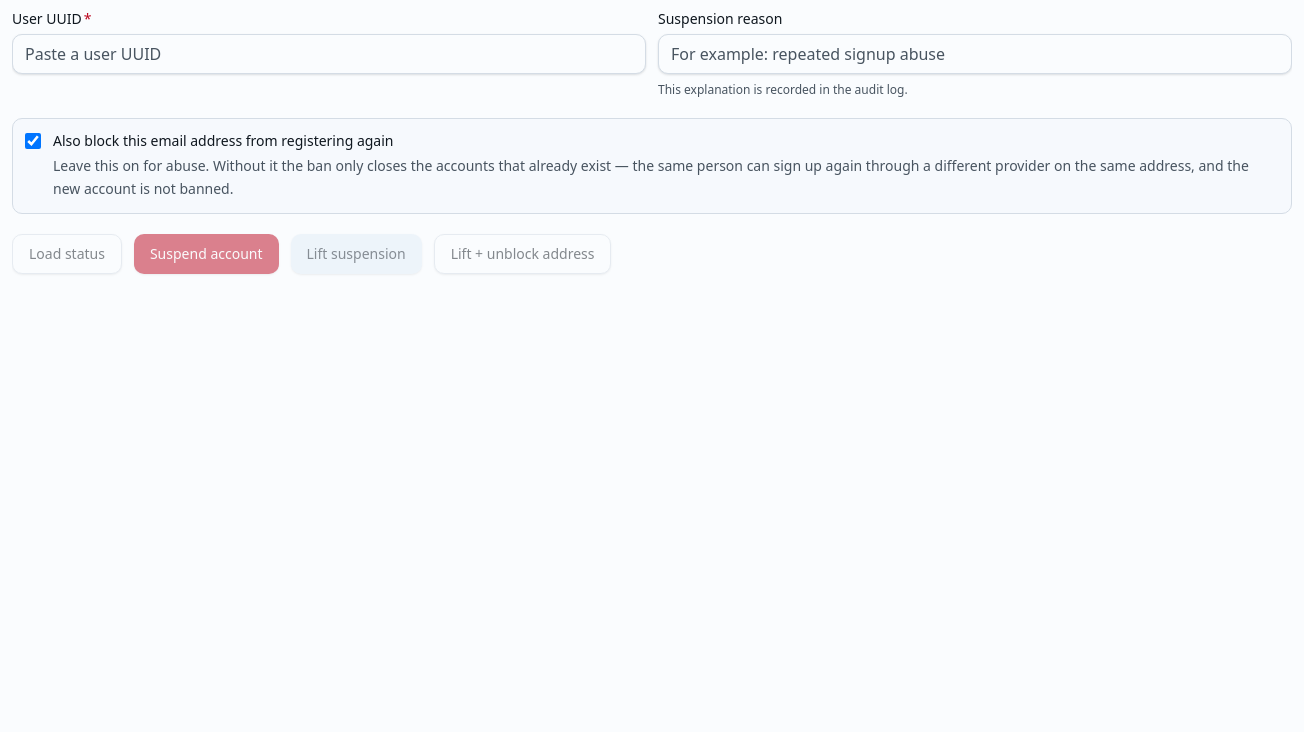
it: BanUserPanel › says when other accounts on the address went down with it
Type "u-1" into the field labelled "User UUID". click: (329, 54)
box: [12, 34, 646, 74]
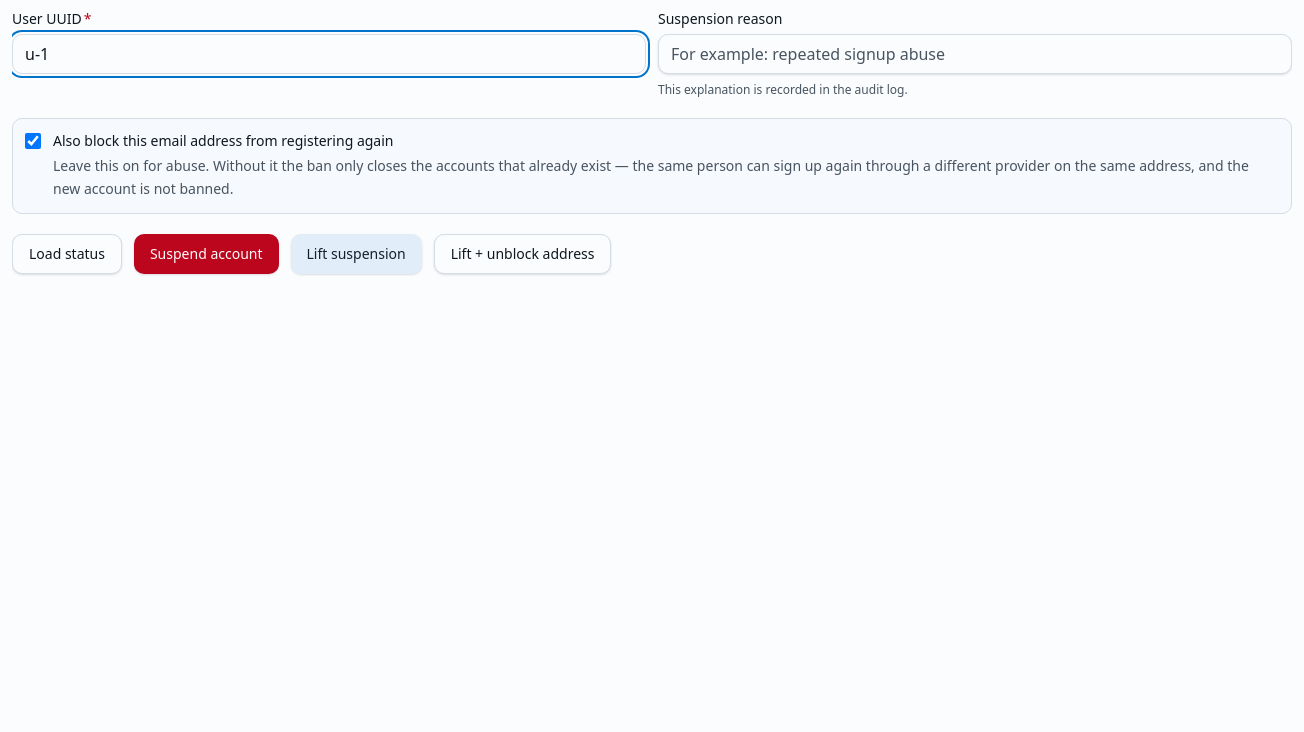
Click the button "Suspend account". click: (206, 254)
box: [134, 234, 278, 274]
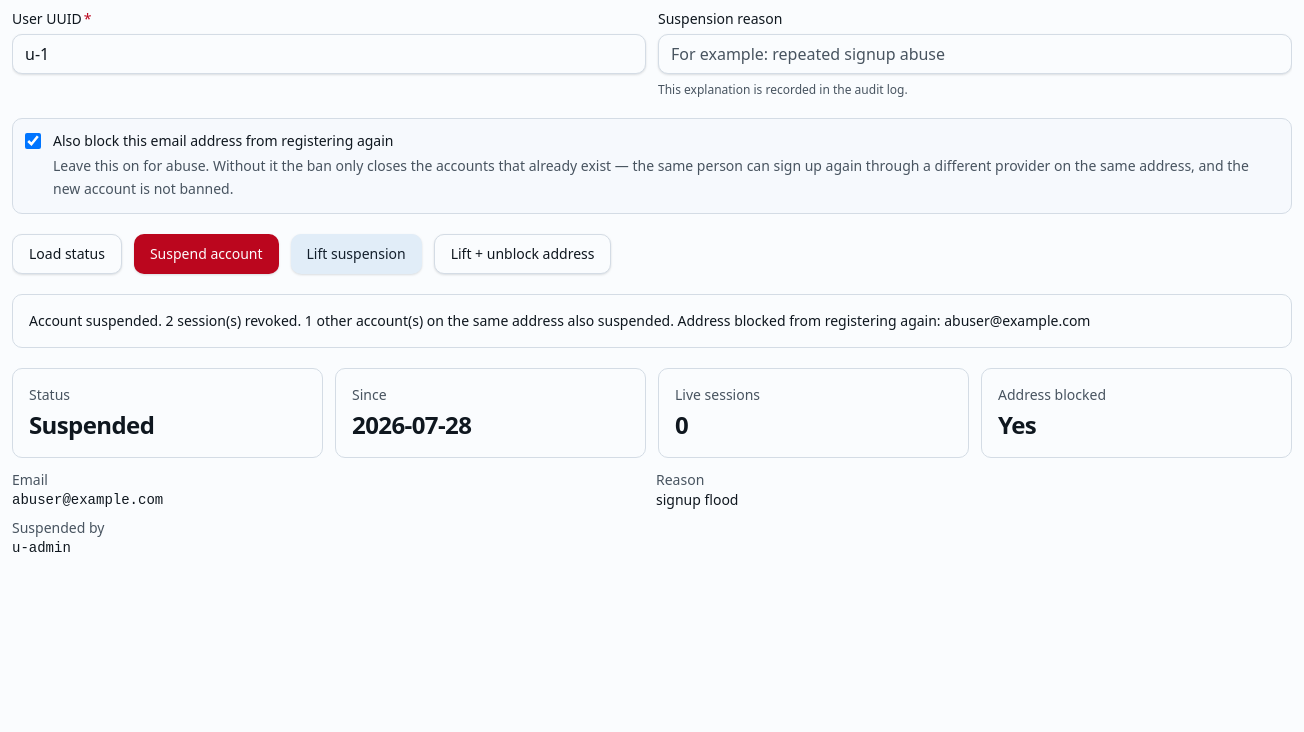
Result: the message shows "1 other account(s) on the same address also suspended" at [29, 310, 1090, 330]
